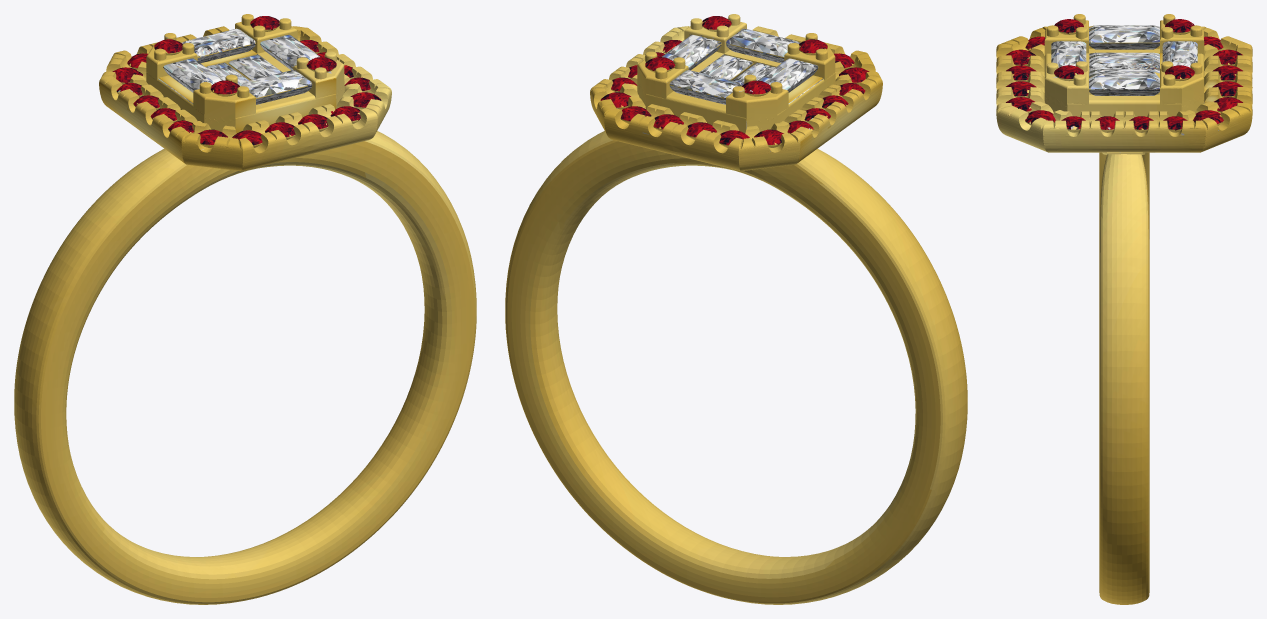
File: C16.0143- Coloured.glb
3 views of the same model, side by side, from view 1: azimuth 30°, elevation 25°; view 2: azimuth 150°, elevation 25°; view 3: azimuth 270°, elevation 25° (orthographic).
Bounding box in the file's own units: 0.0214 × 0.0247 × 0.0107.
4 materials, 4 textured.
